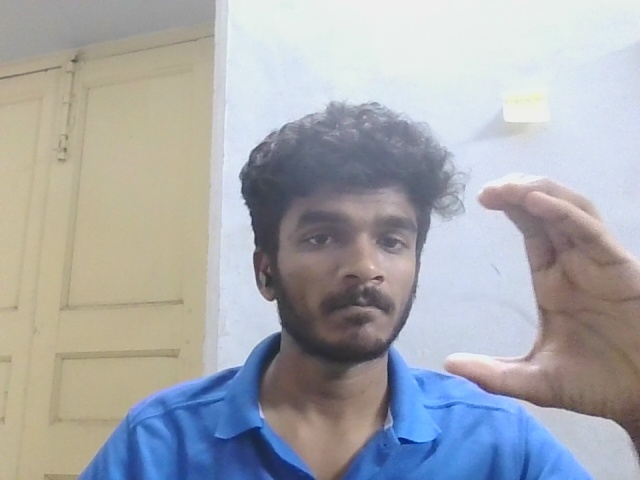No: (407, 169, 640, 446)
